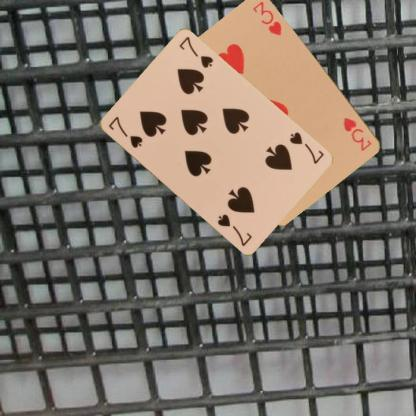3h: (341, 115, 373, 153)
7s: (105, 113, 144, 150), (286, 130, 325, 166)
